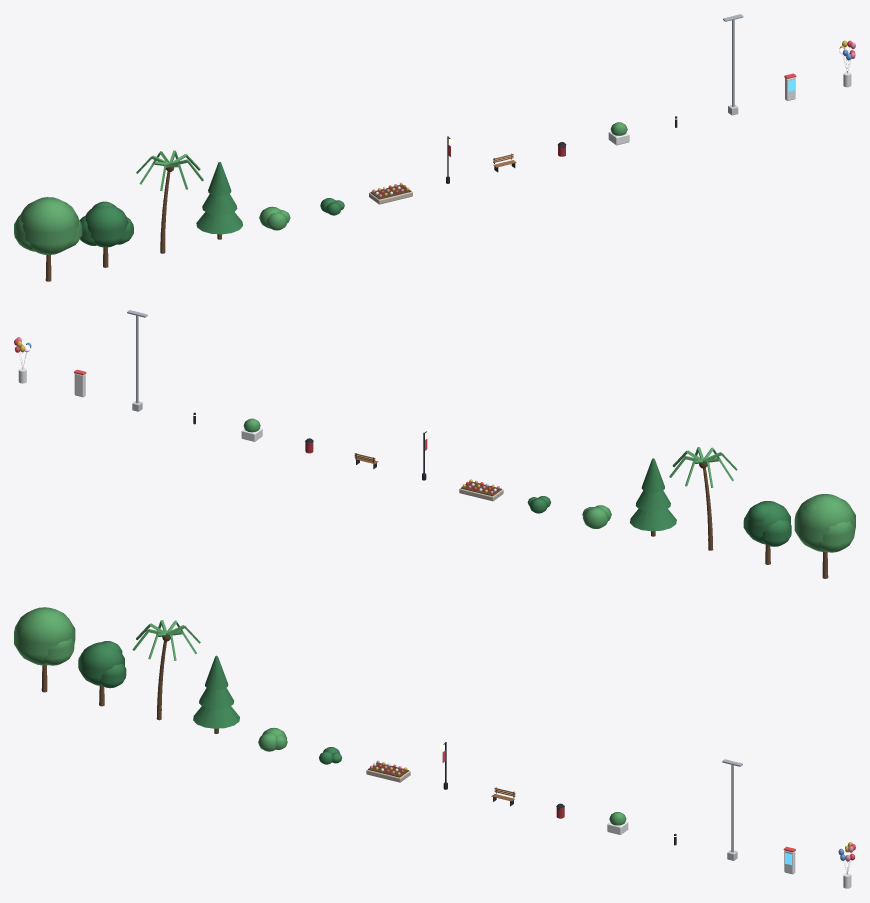
The model's file is props.glb.
The picture shows the model from 3 angles, top to bottom: view 1: azimuth 30°, elevation 25°; view 2: azimuth 150°, elevation 25°; view 3: azimuth 330°, elevation 25°; orthographic projection.
Parts seen in each view (by area): view 1: tree_round_a_body, tree_round_b_body, tree_conifer_body, tree_palm_body, flower_bed_body, bush_a_body; view 2: tree_round_a_body, tree_conifer_body, tree_round_b_body, tree_palm_body, flower_bed_body, bush_a_body; view 3: tree_round_a_body, tree_round_b_body, tree_conifer_body, tree_palm_body, flower_bed_body, bush_a_body.
Part boxes in pixels (x1=…): tree_round_a_body: x1=14, y1=197, x2=82, y2=281; tree_round_b_body: x1=80, y1=201, x2=133, y2=267; tree_conifer_body: x1=196, y1=162, x2=242, y2=239; tree_palm_body: x1=136, y1=150, x2=203, y2=253; flower_bed_body: x1=369, y1=182, x2=412, y2=204; bush_a_body: x1=259, y1=206, x2=290, y2=230; tree_round_a_body: x1=794, y1=494, x2=855, y2=578; tree_conifer_body: x1=630, y1=458, x2=676, y2=536; tree_round_b_body: x1=743, y1=501, x2=791, y2=564; tree_palm_body: x1=669, y1=447, x2=737, y2=550; flower_bed_body: x1=459, y1=479, x2=503, y2=501; bush_a_body: x1=582, y1=505, x2=611, y2=528; tree_round_a_body: x1=14, y1=607, x2=75, y2=692; tree_round_b_body: x1=78, y1=641, x2=126, y2=706; tree_conifer_body: x1=193, y1=655, x2=239, y2=733; tree_palm_body: x1=132, y1=620, x2=200, y2=720; flower_bed_body: x1=366, y1=760, x2=410, y2=782; bush_a_body: x1=258, y1=728, x2=287, y2=751.
Size of the model in its own units: 73.17 by 8.37 by 5.36.
